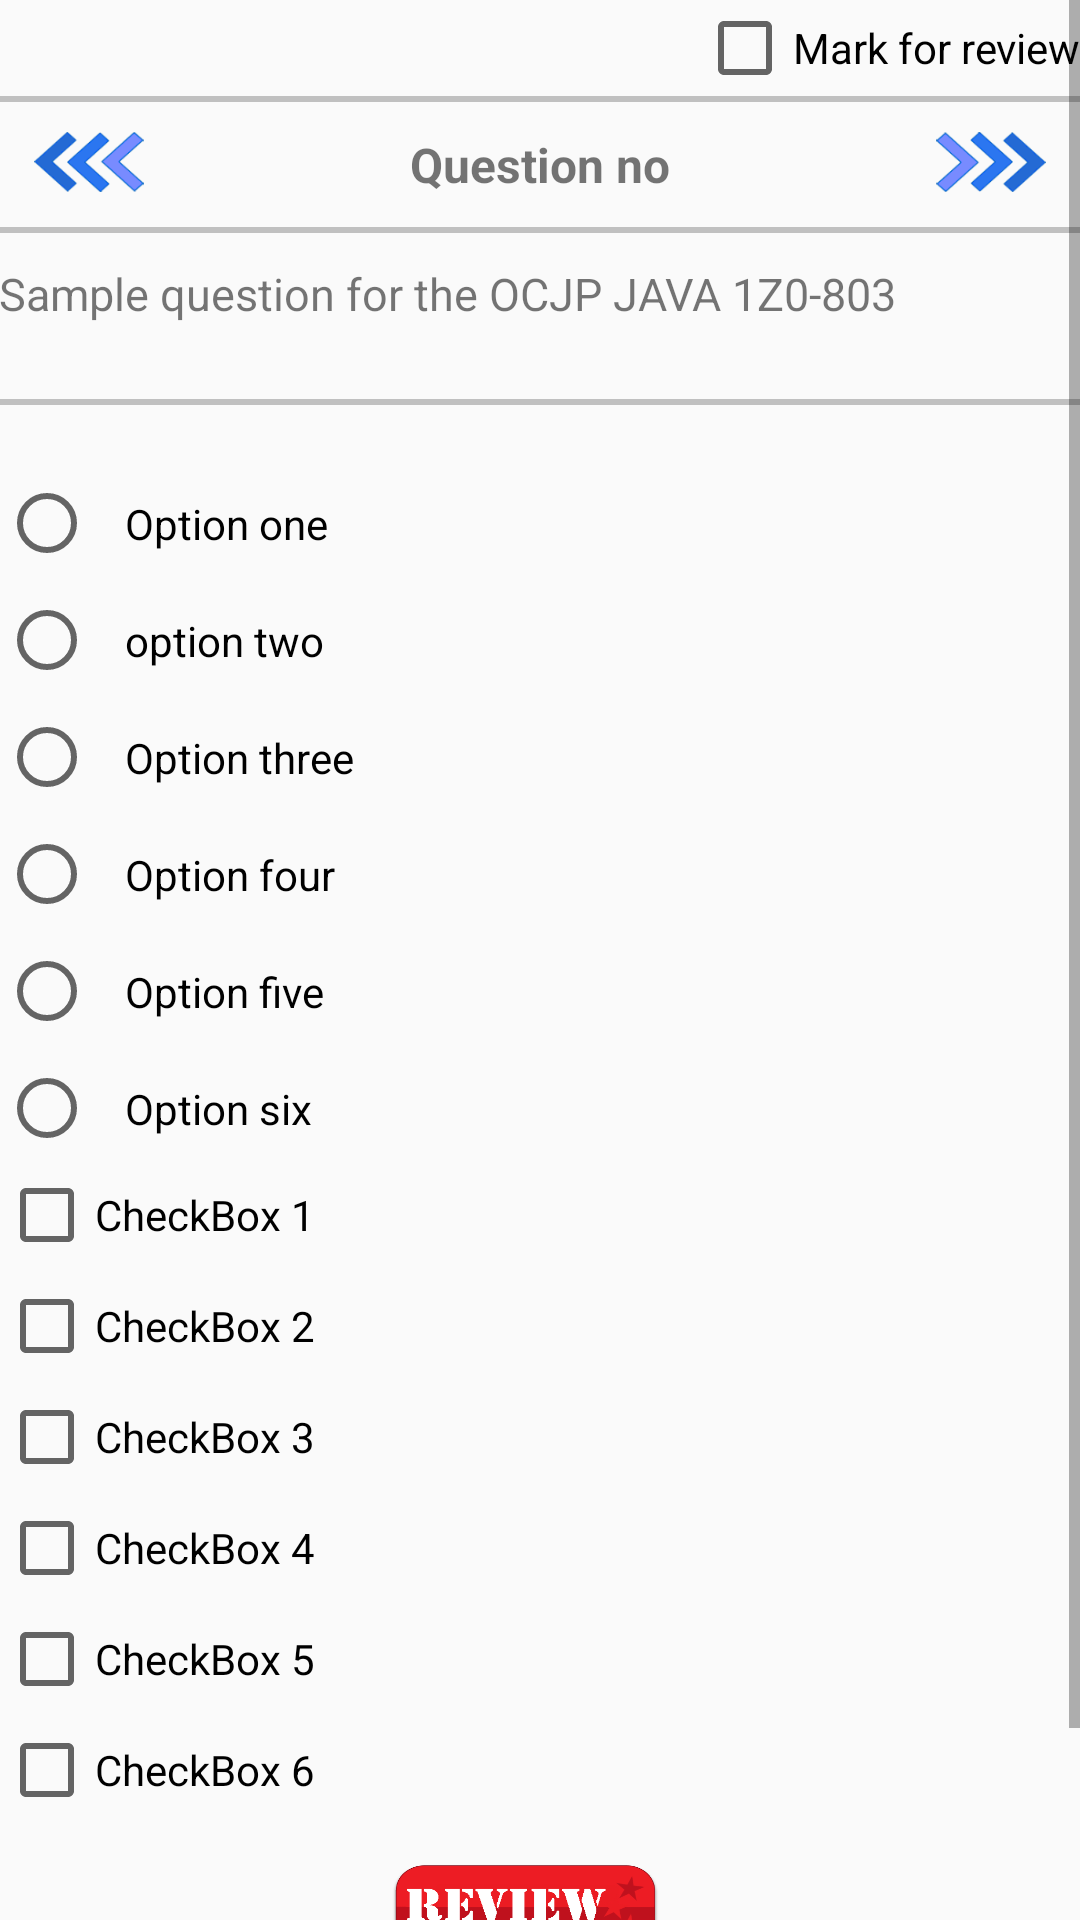

Named icons in this screenshot (1080 × 1920) and their bounding boxes, (x1, y1, x2, y2):
next: (936, 132, 1046, 192)
pre: (34, 132, 144, 192)
